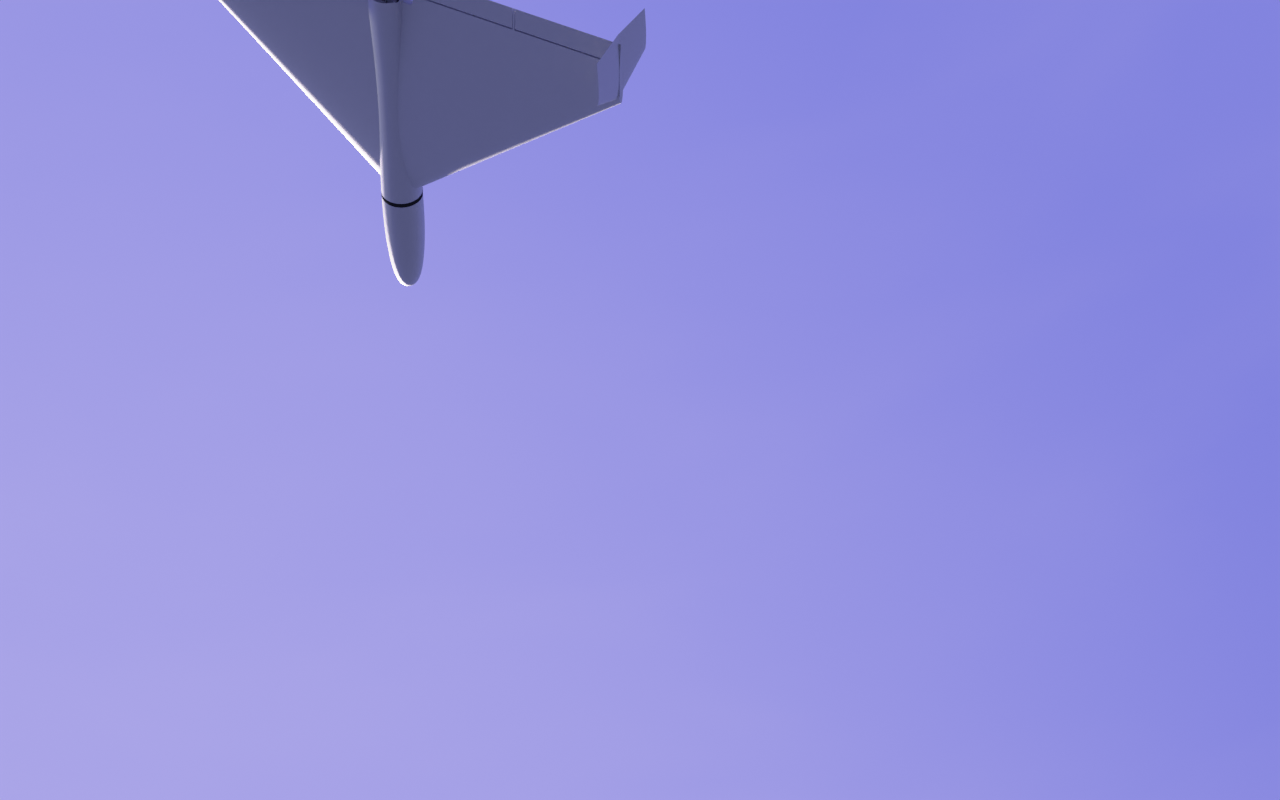shahed: (219, 1, 648, 288)
